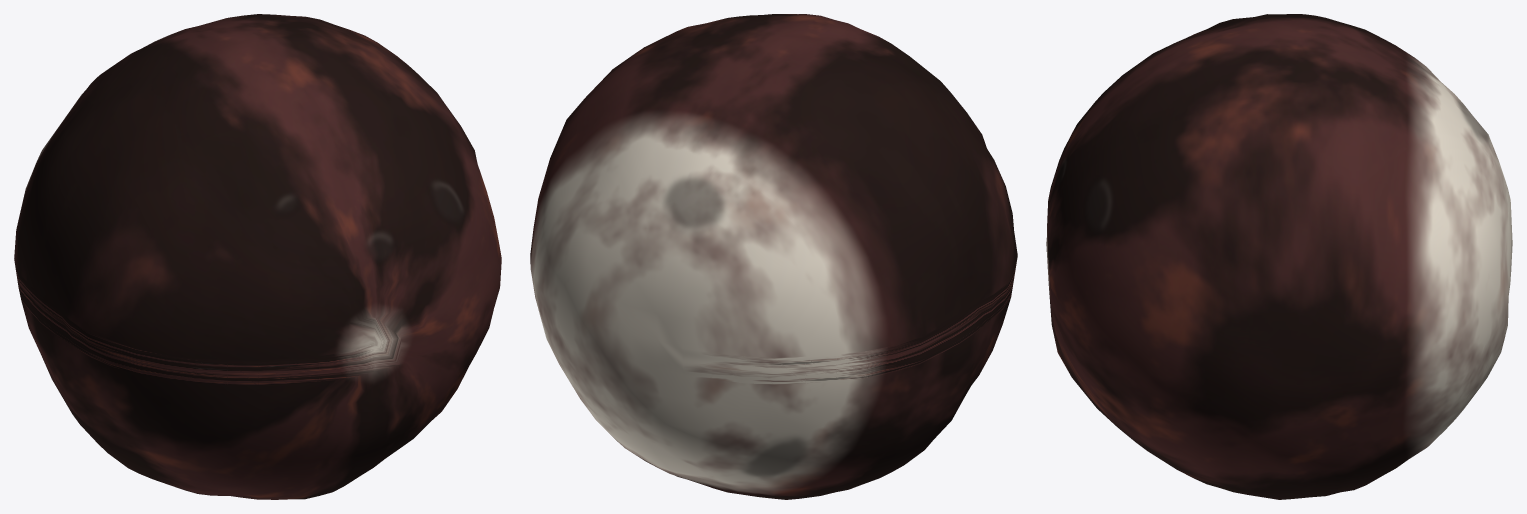
Rendered from planet_04_c.glb.
The picture shows the model from 3 angles, left to right: view 1: azimuth 30°, elevation 25°; view 2: azimuth 150°, elevation 25°; view 3: azimuth 270°, elevation 25°; orthographic projection.
Visible parts, largest first — view 1: Body; view 2: Body; view 3: Body.
Boxes of the visible parts, x1,y1,x2,y2 form: Body: (14,14,501,499); Body: (530,14,1017,499); Body: (1046,14,1512,499).
Size of the model in its own units: 1.9 by 1.96 by 1.89.
Materials: 1 (1 with a texture image).
